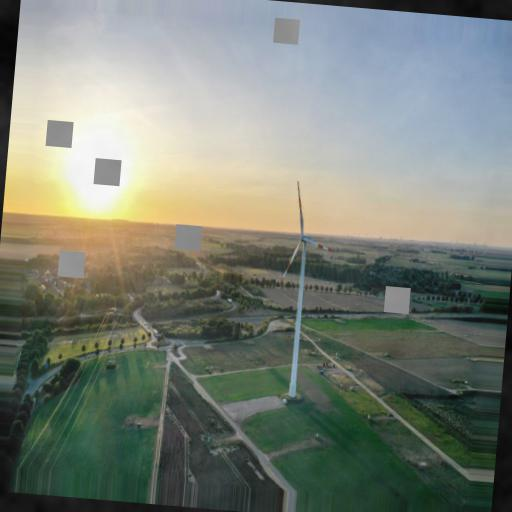wind turbine: (279, 178, 333, 402)
